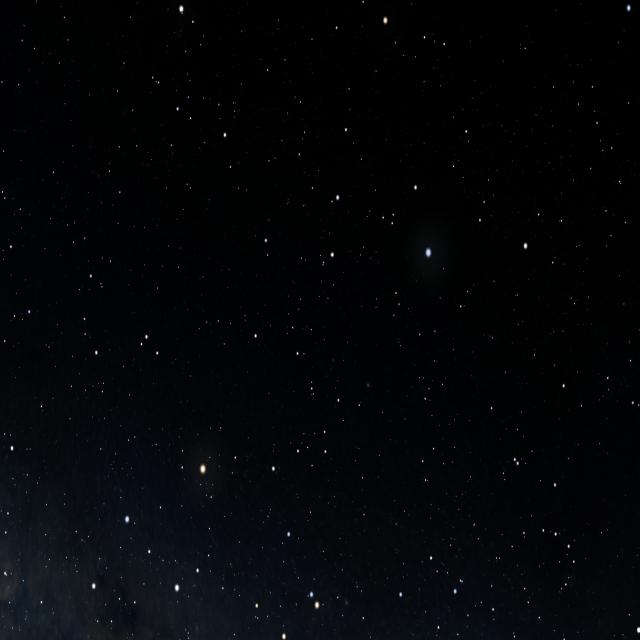Pavo: (250, 122, 434, 481)
